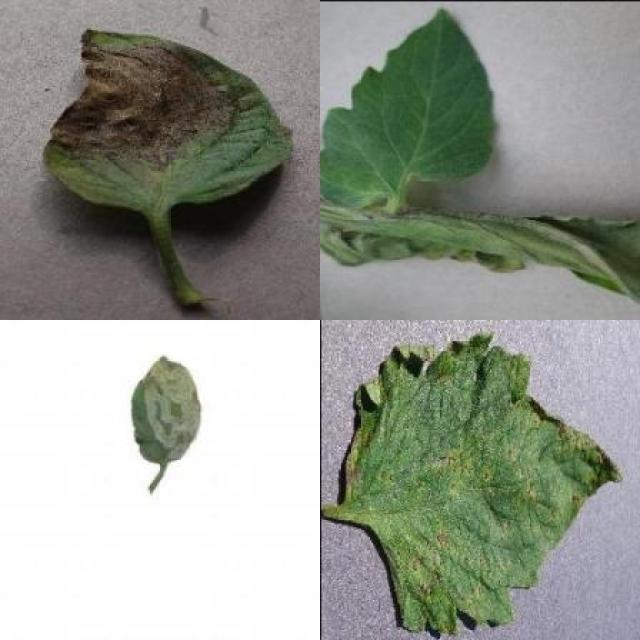Healthy: (319, 7, 496, 210)
Late Blight: (43, 26, 296, 214), (320, 210, 640, 304)
Leaf Miner: (132, 354, 204, 466)
Septoria: (345, 332, 621, 635)
